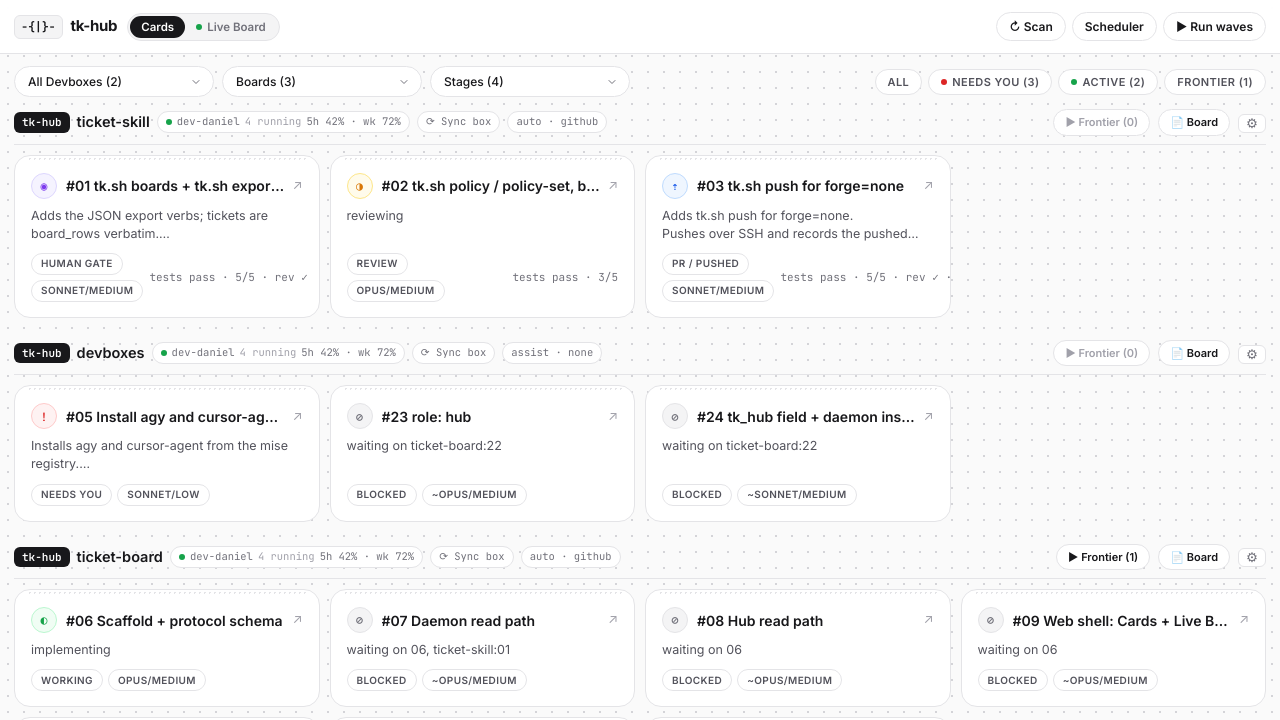
it: App › ↻ Scan posts for the selected devbox and toasts
Step 1. Select "dev-daniel" in the dropdown named "Devbox" → (114, 82), box [14, 66, 214, 97]
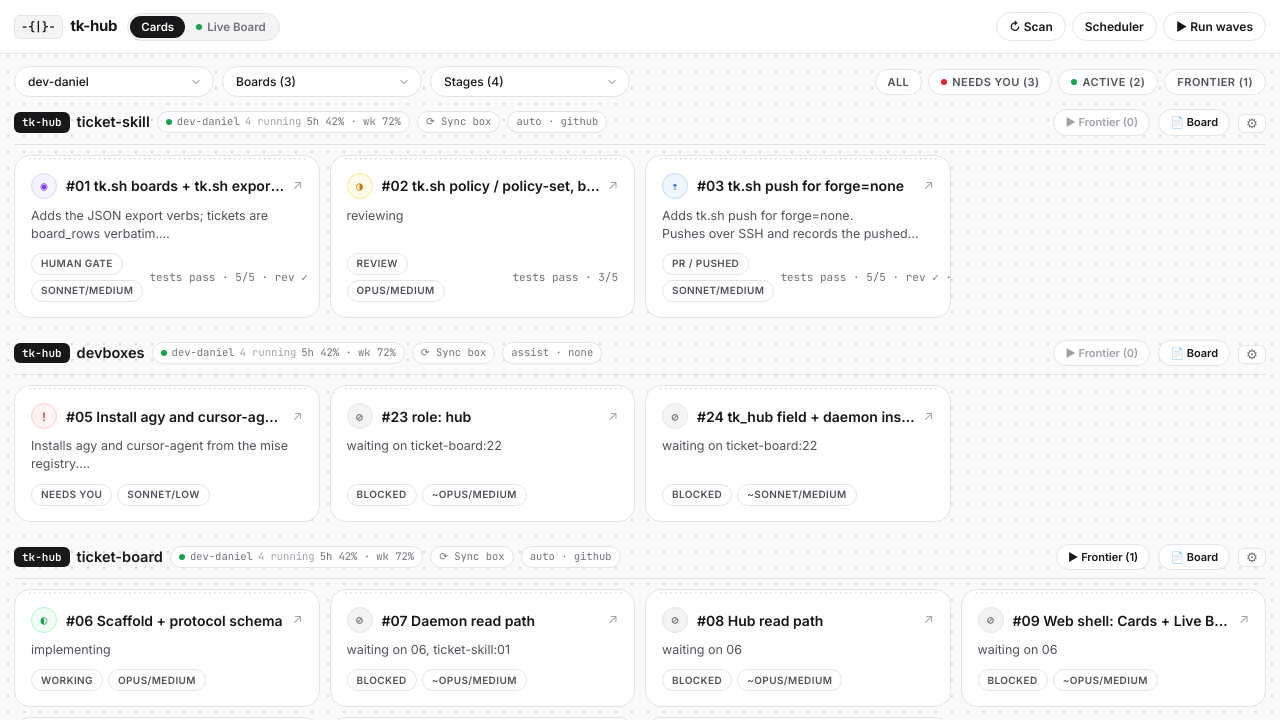
Step 2. Click the button "↻ Scan" → (1031, 26), box [996, 12, 1066, 41]
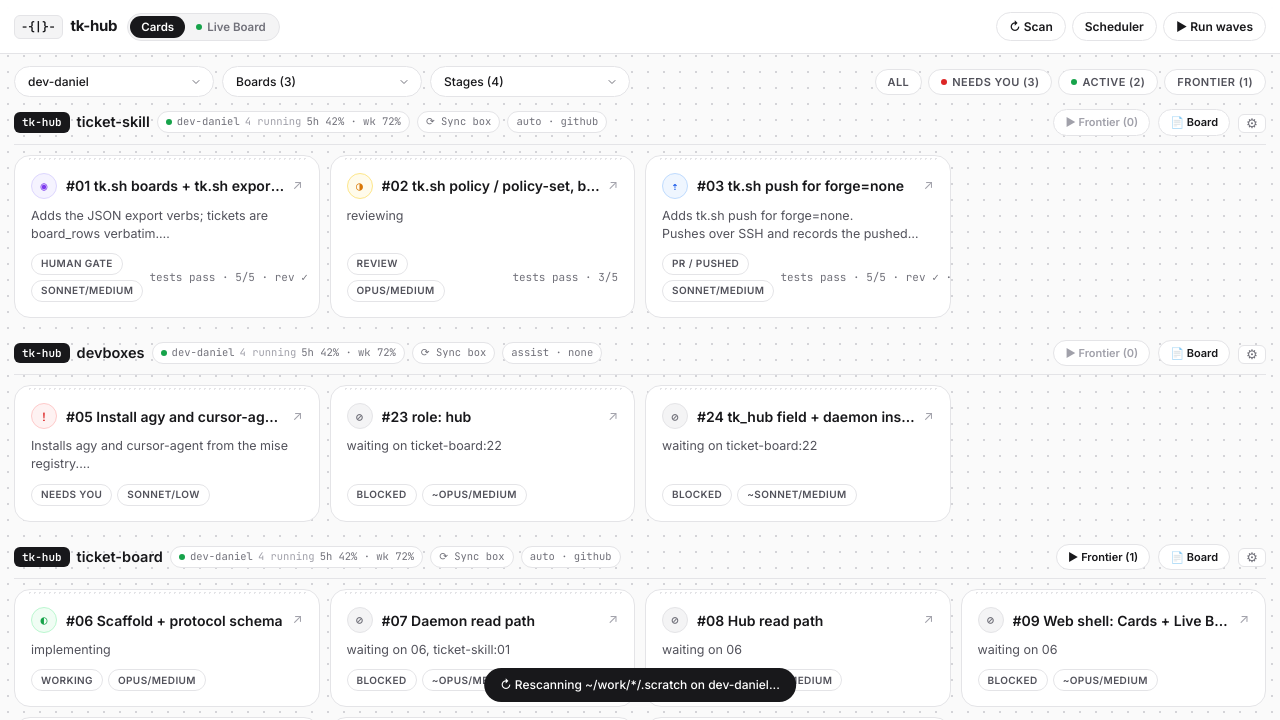
Now the message reads "↻ Rescanning ~/work/*/.scratch on dev-daniel...", box [500, 677, 780, 692]
